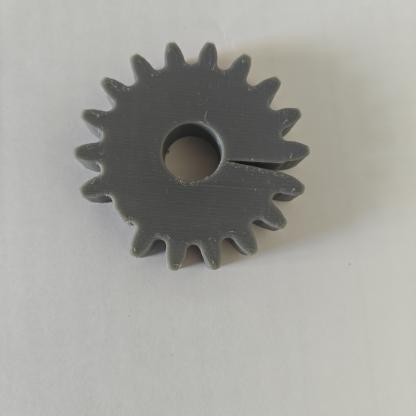defect: (205, 126, 311, 212), (80, 184, 162, 262)
gear: (52, 25, 331, 307)
